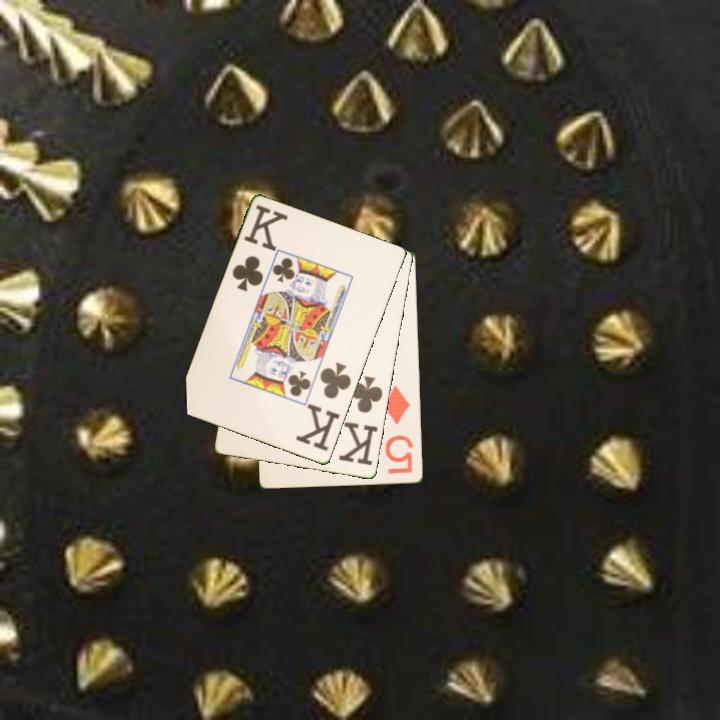5d: (379, 382, 416, 477)
Kc: (293, 358, 354, 454), (229, 201, 290, 295), (336, 372, 386, 468)
